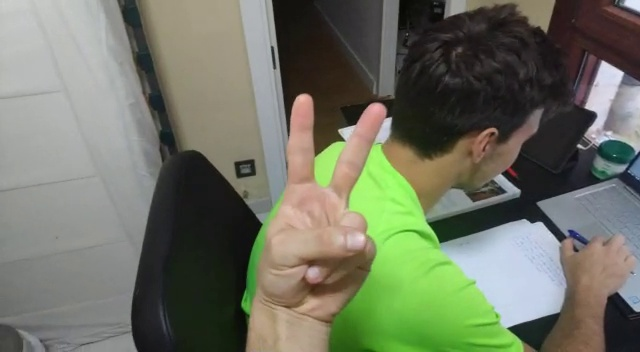Peace: (246, 91, 391, 310)
